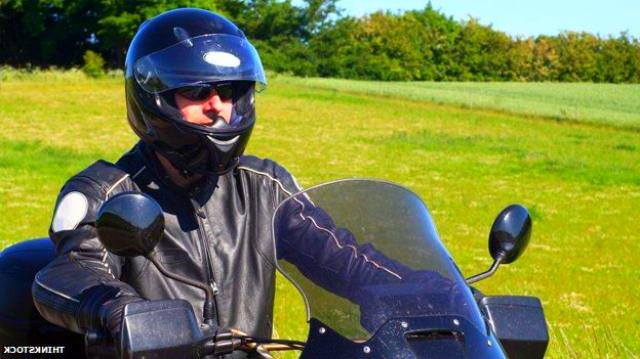helm: (123, 9, 269, 174)
